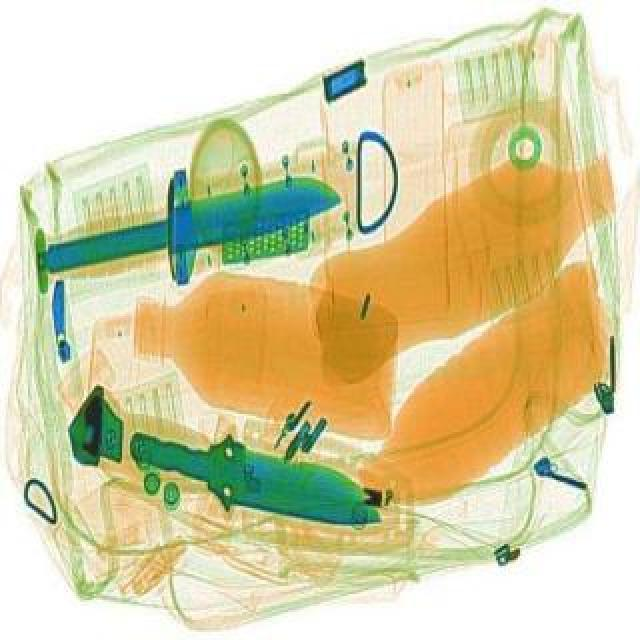knife: (22, 134, 356, 310), (118, 410, 394, 542)
